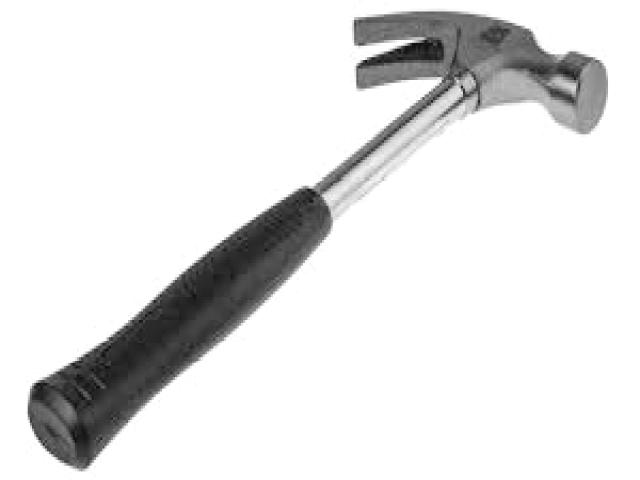Hammer: (28, 17, 605, 468)
